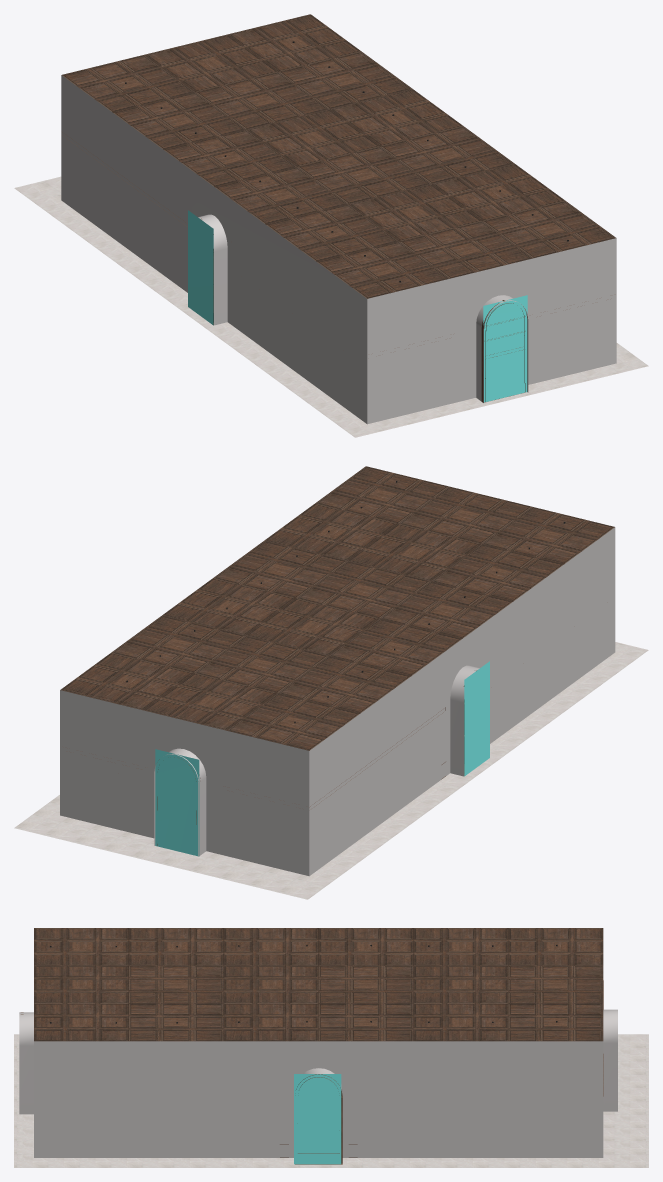
Rendered from Library.fbx.
3 views of the same model, one above another, from view 1: azimuth 30°, elevation 25°; view 2: azimuth 150°, elevation 25°; view 3: azimuth 270°, elevation 25° (orthographic). The views are drawn at different scales.
Visible parts, largest first — view 1: ROOF, polySurface846, floor, polySurface689_glass_0.001, polySurface689, polySurface509; view 2: ROOF, polySurface846, floor, polySurface689_glass_0.001, polySurface689; view 3: polySurface846, ROOF, floor, polySurface689.
Boxes of the visible parts, <box> form: ROOF: <box>62,14,615,298</box>; polySurface846: <box>61,75,616,424</box>; floor: <box>14,176,648,437</box>; polySurface689_glass_0.001: <box>483,295,527,402</box>; polySurface689: <box>188,210,213,325</box>; polySurface509: <box>481,300,527,402</box>; ROOF: <box>60,466,614,750</box>; polySurface846: <box>60,527,615,876</box>; floor: <box>14,642,648,899</box>; polySurface689_glass_0.001: <box>155,749,199,856</box>; polySurface689: <box>464,661,489,776</box>; polySurface846: <box>19,1009,617,1157</box>; ROOF: <box>34,928,603,1041</box>; floor: <box>14,1034,648,1167</box>; polySurface689: <box>294,1074,341,1164</box>.
Size of the model in its own units: 1887 by 781 by 3796.
